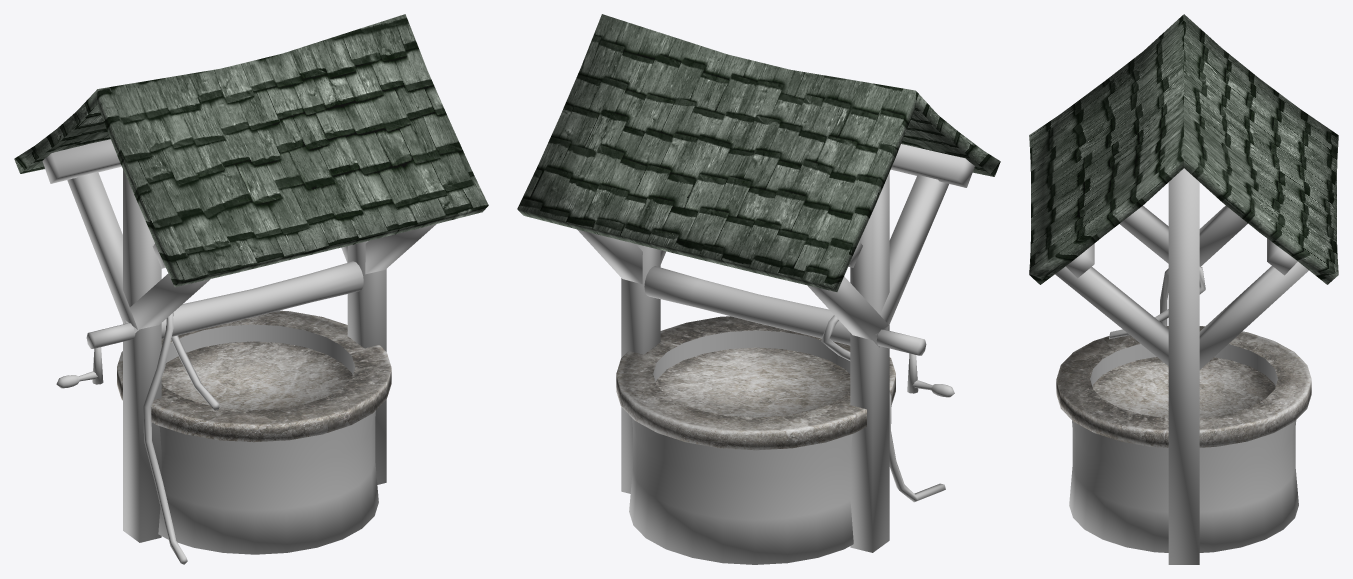
The model's file is well.fbx.
3 views of the same model, side by side, from view 1: azimuth 30°, elevation 25°; view 2: azimuth 150°, elevation 25°; view 3: azimuth 270°, elevation 25° (orthographic). The views are drawn at different scales.
Parts seen in each view (by area): view 1: roof5, wood2, brick1, concrete4, wood5, concrete1, wood1; view 2: roof5, wood2, brick1, concrete4, wood5, concrete1, wood1; view 3: roof5, wood2, brick1, concrete4, concrete1, wood1.
Boxes of the visible parts, bbox=[...] form: roof5: bbox=[14, 14, 488, 287]; wood2: bbox=[42, 139, 436, 542]; brick1: bbox=[158, 410, 378, 554]; concrete4: bbox=[117, 310, 391, 442]; wood5: bbox=[86, 261, 363, 348]; concrete1: bbox=[166, 324, 355, 374]; wood1: bbox=[143, 313, 219, 564]; roof5: bbox=[517, 14, 1000, 291]; wood2: bbox=[577, 144, 974, 552]; brick1: bbox=[629, 418, 853, 564]; concrete4: bbox=[616, 316, 895, 450]; wood5: bbox=[644, 266, 926, 355]; concrete1: bbox=[653, 330, 850, 381]; wood1: bbox=[821, 315, 945, 502]; roof5: bbox=[1029, 14, 1338, 284]; wood2: bbox=[1055, 168, 1308, 564]; brick1: bbox=[1069, 420, 1298, 552]; concrete4: bbox=[1056, 326, 1311, 447]; concrete1: bbox=[1090, 344, 1277, 386]; wood1: bbox=[1109, 266, 1205, 339].
Bounding box in the file's own units: 45.61 × 57.15 × 37.85.
